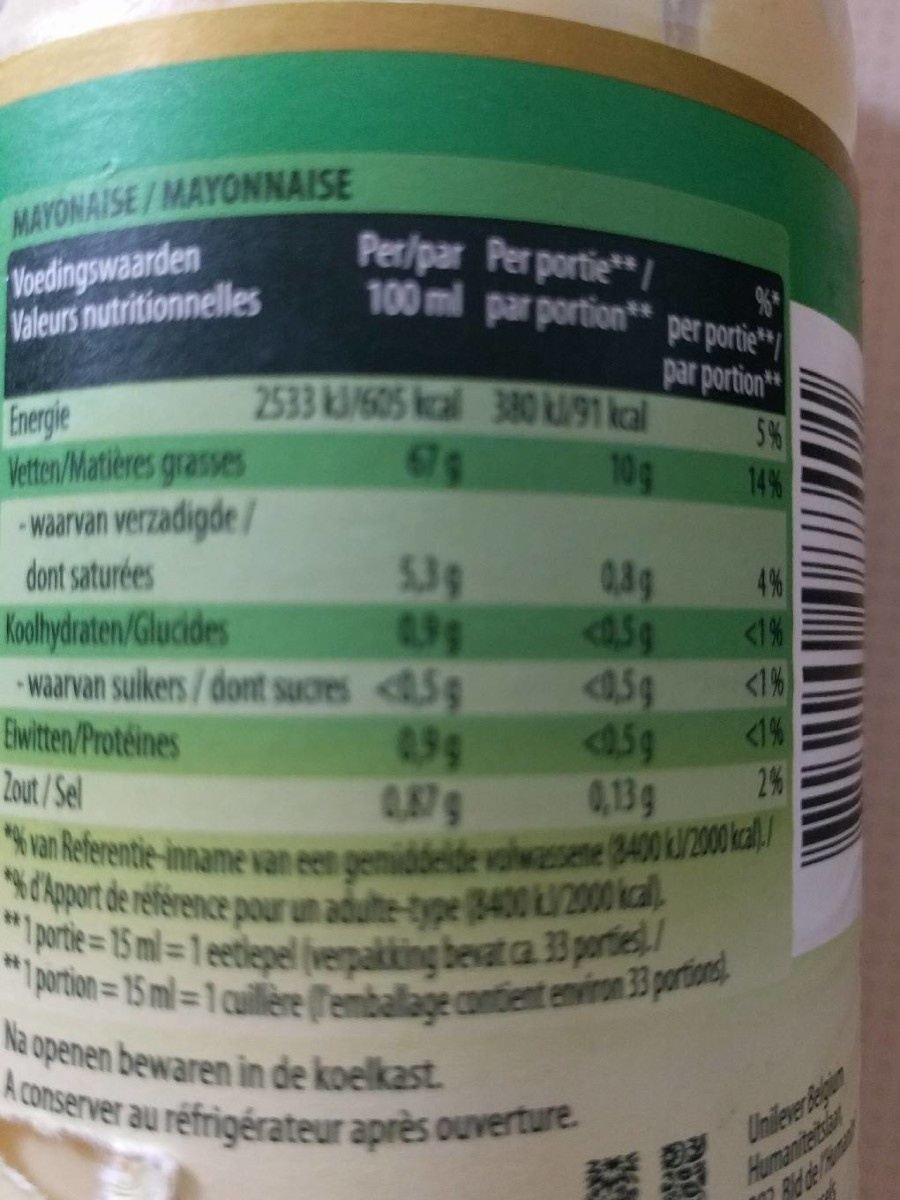column: (5, 211, 469, 829), (483, 214, 665, 834), (674, 269, 782, 820)
table: (5, 158, 796, 1020)
